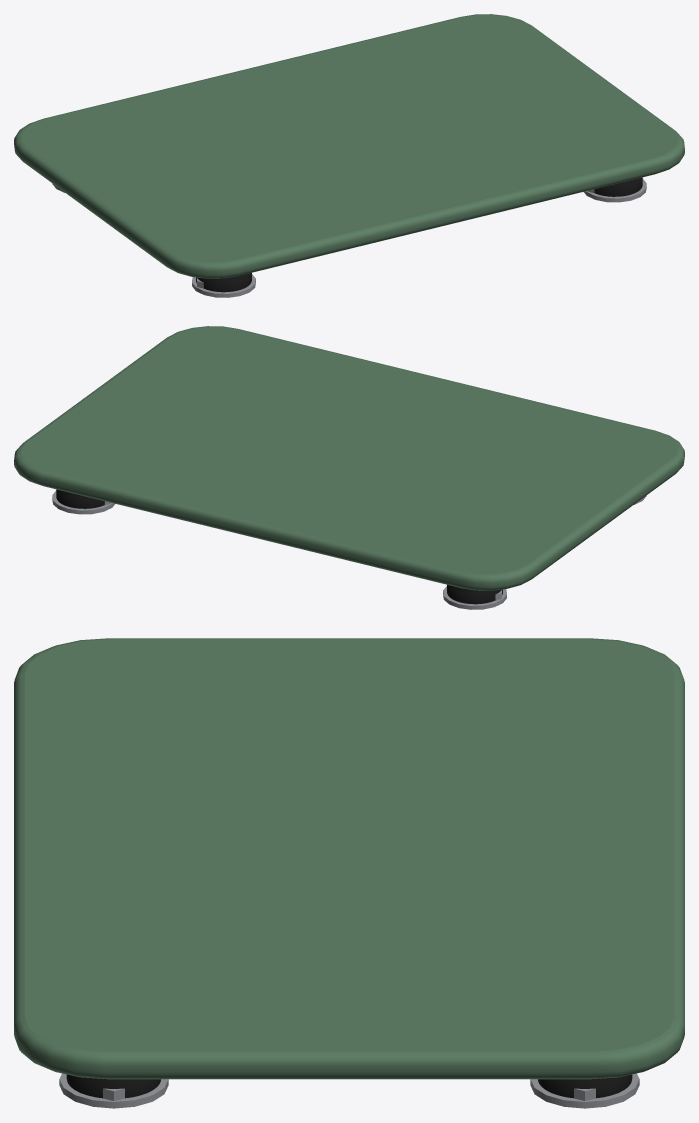
File: t10_mounts.obj
3 views of the same model, one above another, from view 1: azimuth 30°, elevation 25°; view 2: azimuth 150°, elevation 25°; view 3: azimuth 270°, elevation 25° (orthographic). The views are drawn at different scales.
Parts seen in each view (by area): view 1: t10_mounts; view 2: t10_mounts; view 3: t10_mounts.
Boxes of the visible parts, box(x1,y1,x2,y2) form: t10_mounts: box(14, 14, 684, 297); t10_mounts: box(14, 326, 684, 609); t10_mounts: box(14, 638, 684, 1108).
Bounding box in the file's own units: 2.74 × 0.24 × 1.85.
